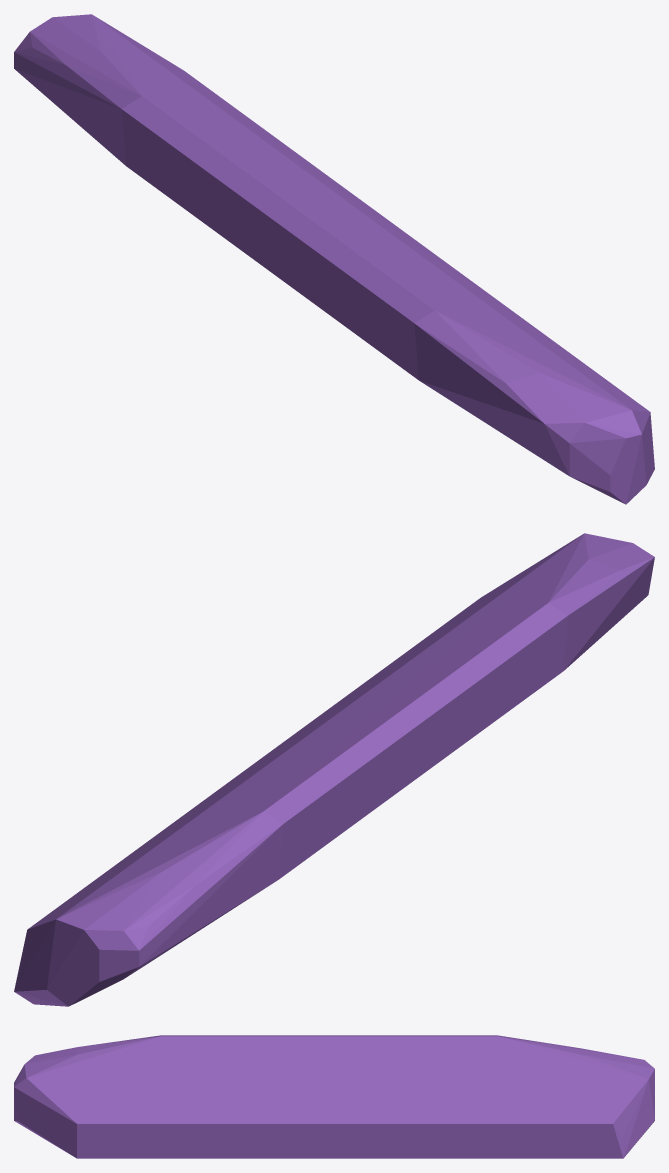
File: mouth_cup004.obj
The picture shows the model from 3 angles, top to bottom: view 1: azimuth 30°, elevation 25°; view 2: azimuth 150°, elevation 25°; view 3: azimuth 270°, elevation 25°; orthographic projection. The views are drawn at different scales.
Visible parts, largest first — view 1: mouth_cup004; view 2: mouth_cup004; view 3: mouth_cup004.
Boxes of the visible parts, x1=… form: mouth_cup004: x1=14, y1=14, x2=654, y2=504; mouth_cup004: x1=14, y1=533, x2=654, y2=1006; mouth_cup004: x1=14, y1=1035, x2=654, y2=1158.
Size of the model in its own units: 0.0633 by 0.0539 by 0.3654.
